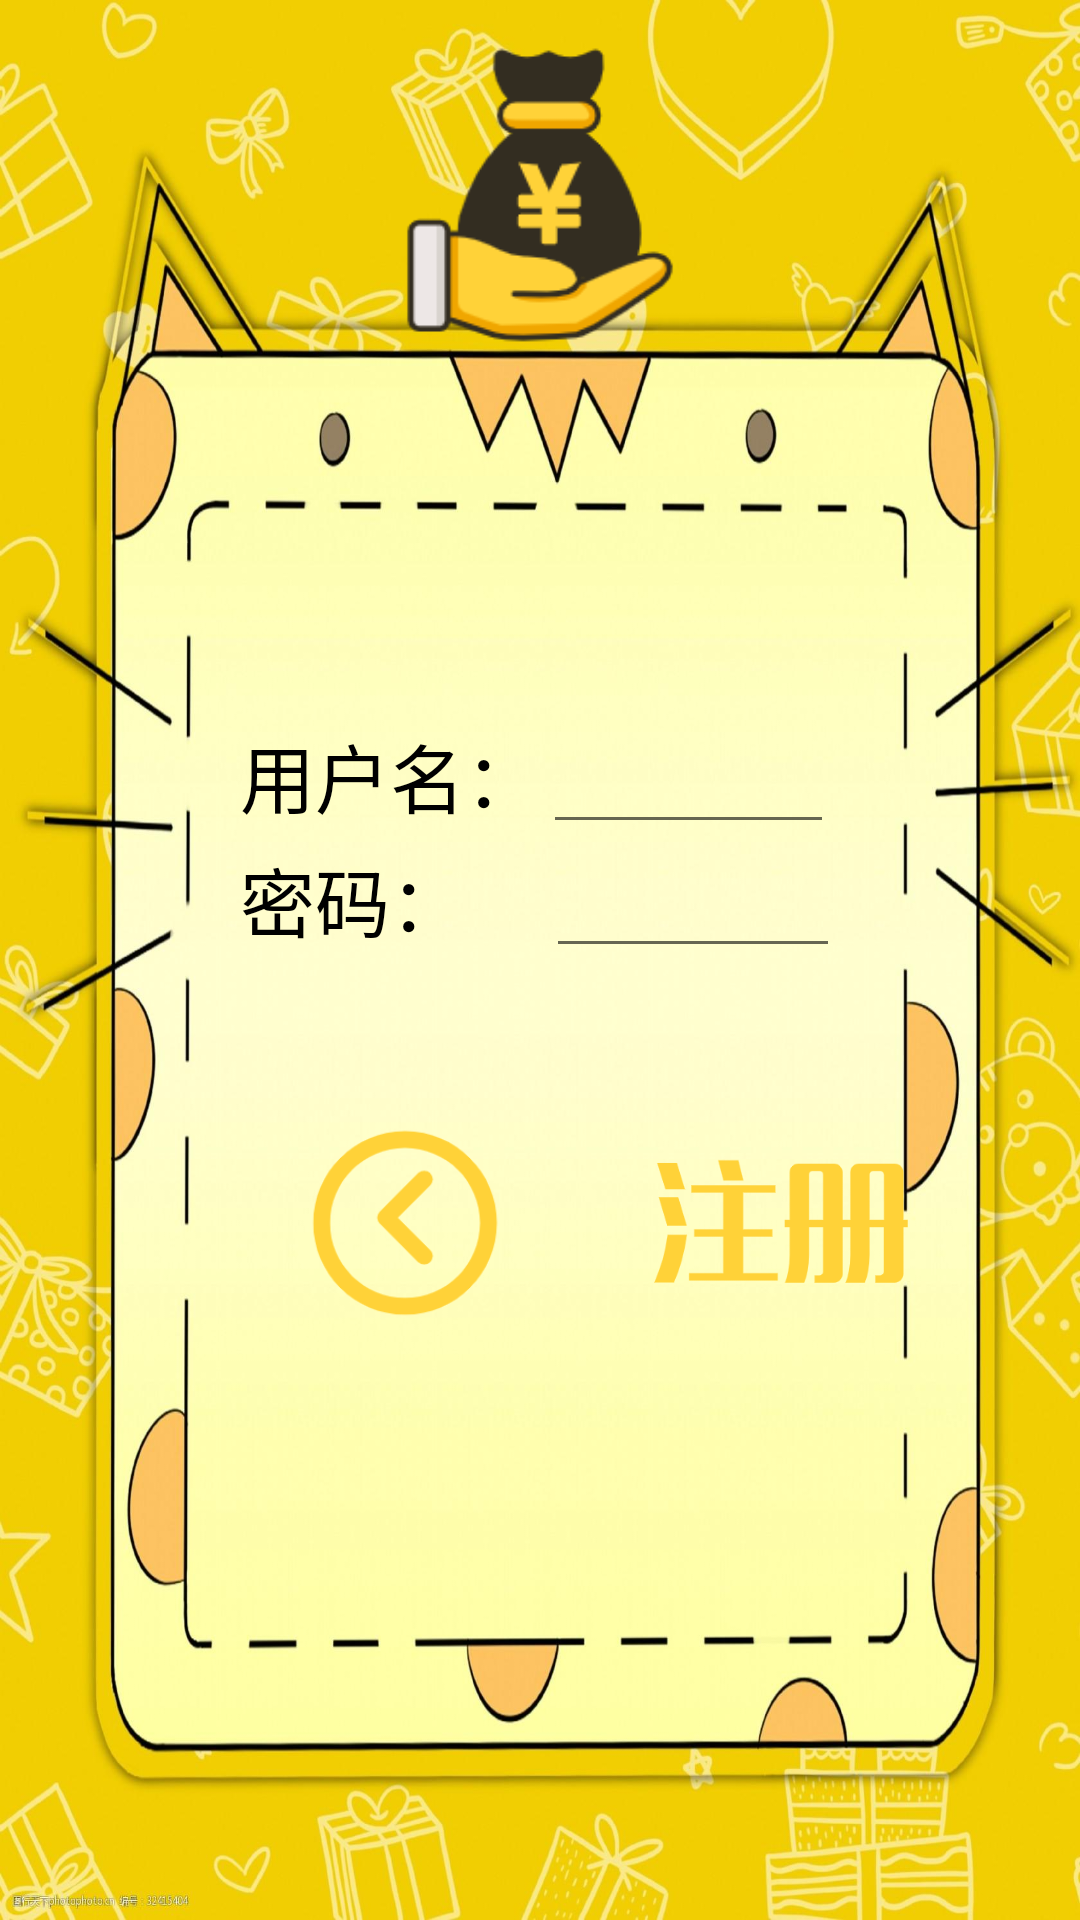

Named icons in this screenshot (1080w x 1920h) and their bounding boxes, region(x1, y1, x2, y2):
return login: region(300, 1118, 510, 1316)
